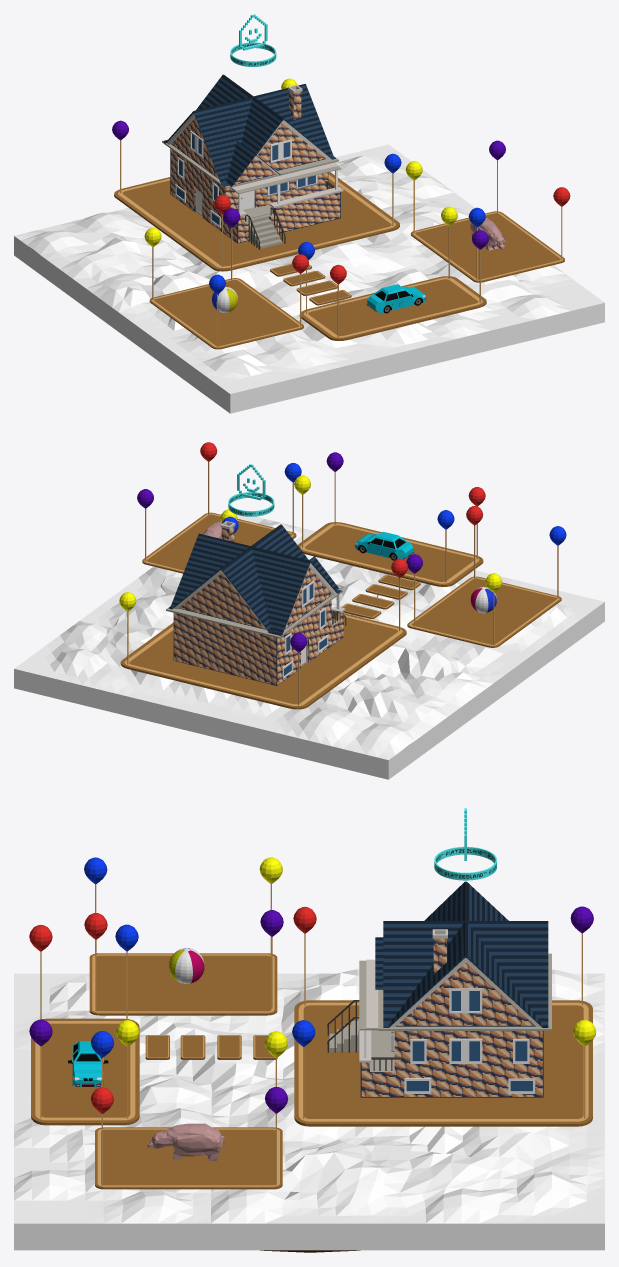
3 renders of one model, top to bottom at view 1: azimuth 30°, elevation 25°; view 2: azimuth 150°, elevation 25°; view 3: azimuth 270°, elevation 25°, orthographic. The views are drawn at different scales.
Parts seen in each view (by area): view 1: Cube.013, Cube.430, VEHICLES_CAR, TYPE_PREMIUM, ANIMAL_HIPOPOTAMO; view 2: Cube.013, Cube.430, VEHICLES_CAR, TYPE_PREMIUM, OBJRANDOM_BEACHBALL; view 3: Cube.013, Cube.430, ANIMAL_HIPOPOTAMO, VEHICLES_CAR, TYPE_PREMIUM, OBJRANDOM_BEACHBALL.
Boxes of the visible parts, x1,y1,x2,y2 form: Cube.013: (14,78,604,413); Cube.430: (162,74,343,249); VEHICLES_CAR: (366,284,425,313); TYPE_PREMIUM: (230,14,276,66); ANIMAL_HIPOPOTAMO: (470,218,505,250); Cube.013: (14,442,604,779); Cube.430: (166,521,346,685); VEHICLES_CAR: (355,531,414,560); TYPE_PREMIUM: (228,464,274,516); OBJRANDOM_BEACHBALL: (470,587,496,613); Cube.013: (14,857,604,1250); Cube.430: (327,881,551,1097); ANIMAL_HIPOPOTAMO: (147,1123,224,1161); VEHICLES_CAR: (68,1041,108,1086); TYPE_PREMIUM: (434,808,496,880); OBJRANDOM_BEACHBALL: (169,948,204,983).
Size of the model in its own units: 4000 by 2509 by 4000.
Materials: 41 (3 with a texture image).
